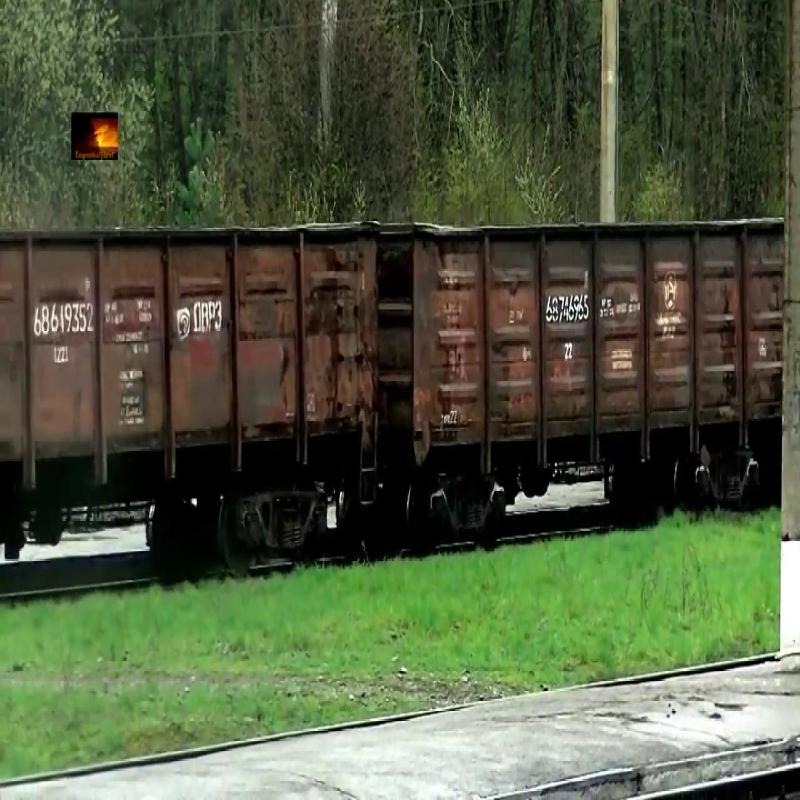train: (1, 224, 381, 495), (380, 223, 781, 475)
